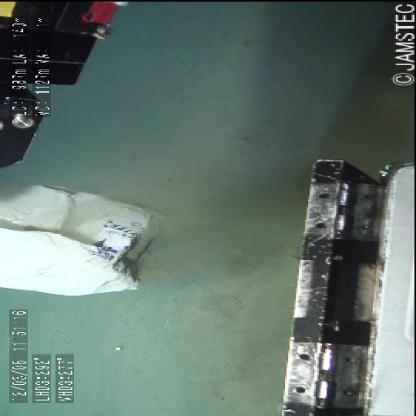Rov: (264, 154, 414, 415)
